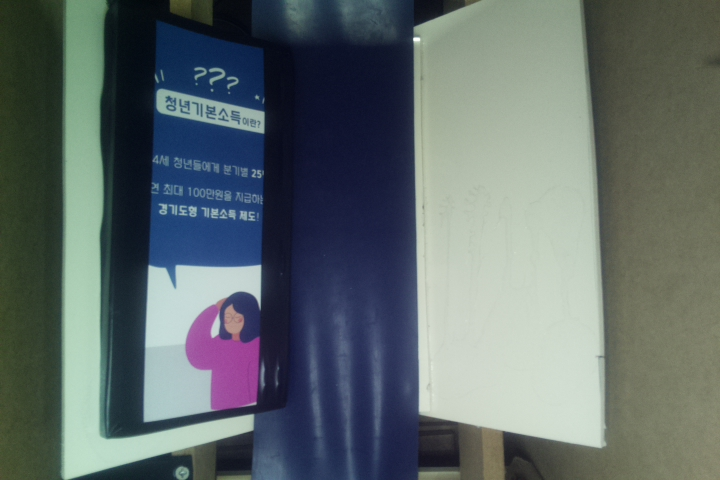book: (98, 1, 287, 441)
